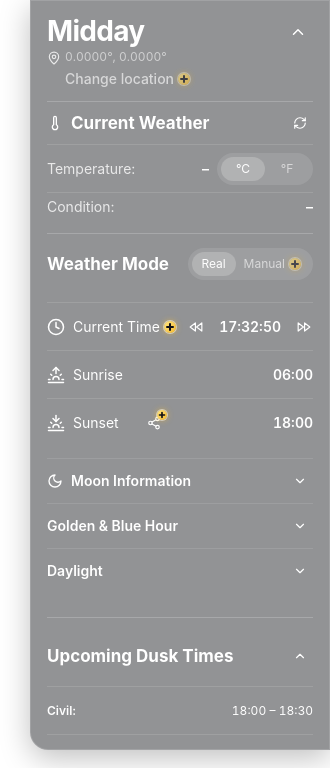
InfoPanel › place-name search (ROADMAP 12) › Enter picks the first result of the typed text, and never submits the coordinates (ROADMAP 165)
The image size is (330, 768).
Click the button "Change location": [128, 79] box 65,69 -> 190,89
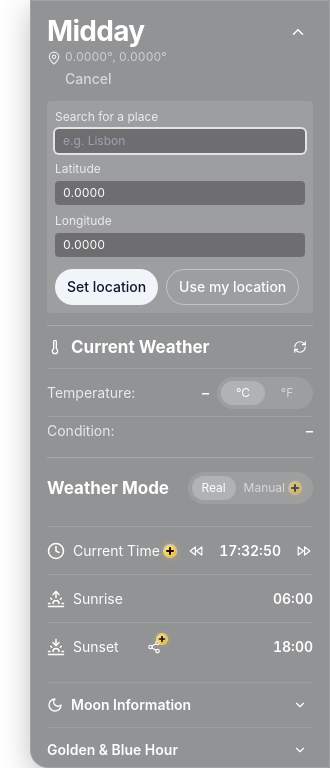
In the dropdown labelled "Search for a place": [180, 141] box 55,129 -> 305,153, type "Hamburg"
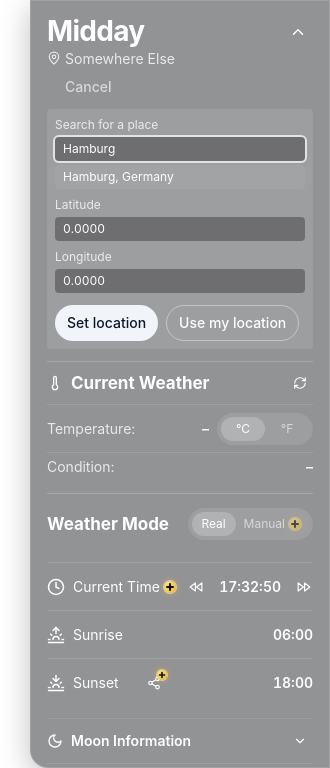
Check: the option "Hamburg, Germany" is shown, box 55,165 -> 305,189
Replace the text in the dropdown labelled "Search for a place" with "Hamburg-Altona": [180, 149] box 55,137 -> 305,161
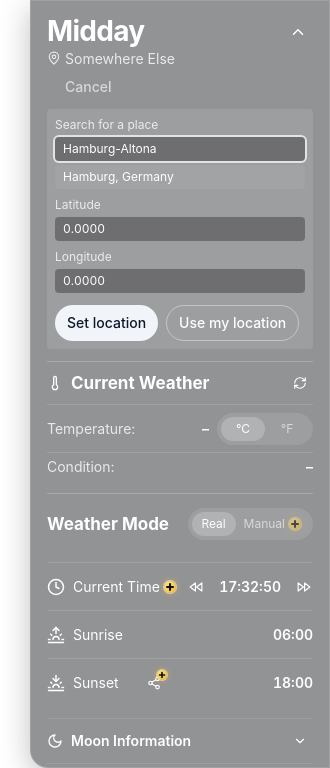
Press Enter in the dropdown labelled "Search for a place", box 55,137 -> 305,161
# Text changed after Enter: no pick when those results come.
Replace the text in the dropdown labelled "Search for a place" with "Hamburg-Alton": [180, 149] box 55,137 -> 305,161
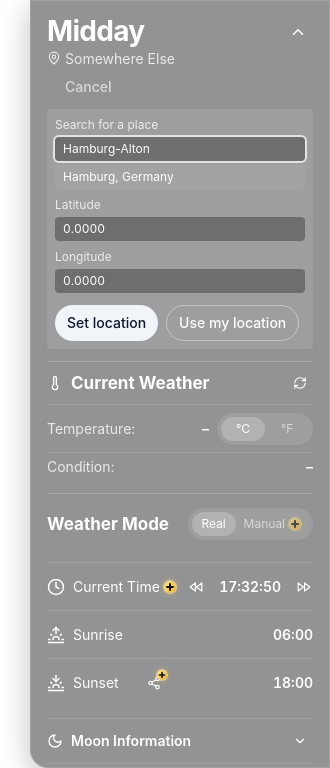
# Enter before the results of this text: the first result is picked when they come.
Replace the text in the dropdown labelled "Search for a place" with "Hamburg": [180, 149] box 55,137 -> 305,161
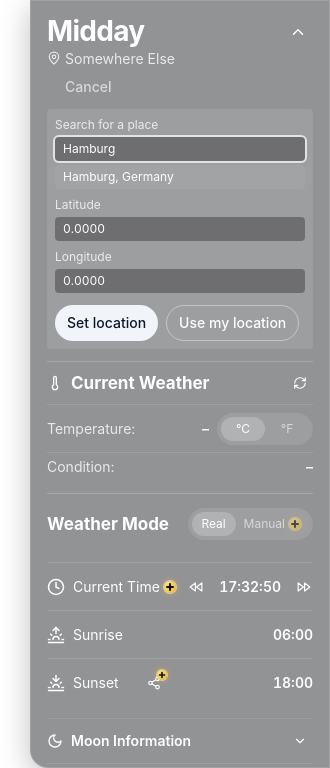
Press Enter in the dropdown labelled "Search for a place", box 55,137 -> 305,161
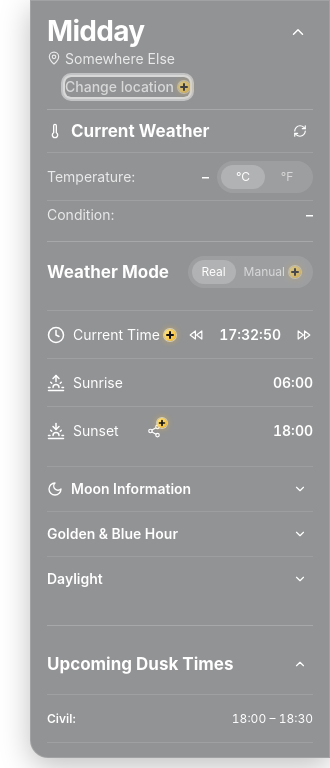
Check: the label labelled "Search for a place" is gone
